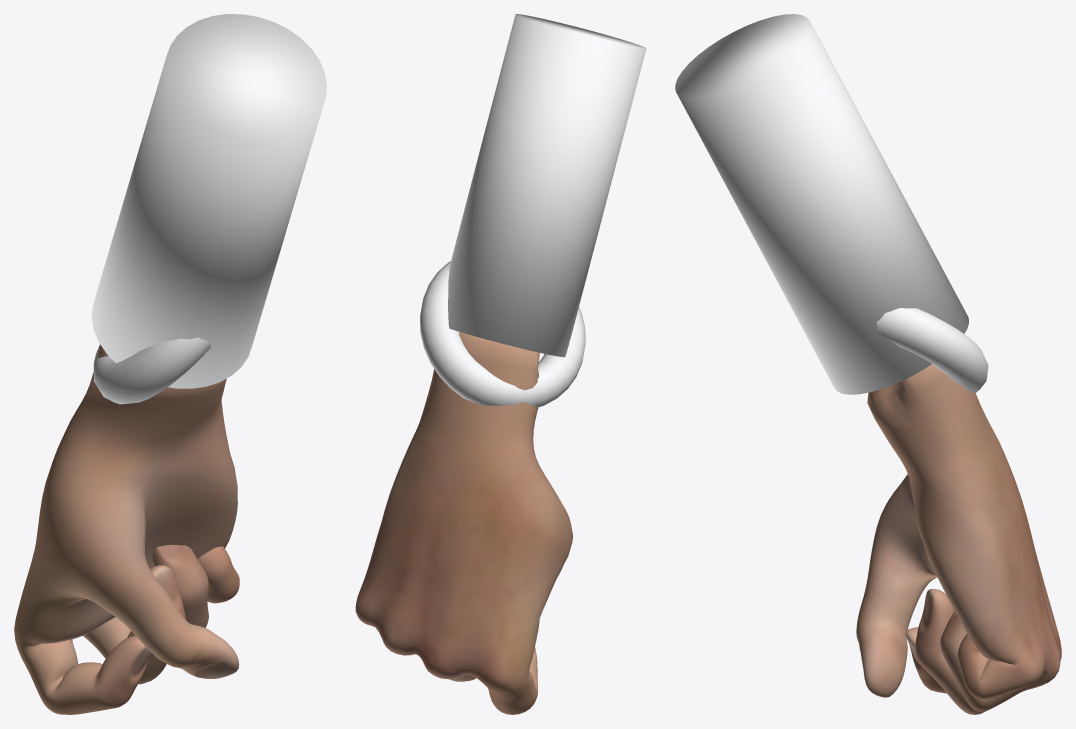
The model's file is hand_pinch.glb.
3 renders of one model, left to right at view 1: azimuth 30°, elevation 25°; view 2: azimuth 150°, elevation 25°; view 3: azimuth 270°, elevation 25°, orthographic. The views are drawn at different scales.
Parts seen in each view (by area): view 1: hand, sleeve, cuff; view 2: hand, sleeve, cuff; view 3: sleeve, hand, cuff.
Boxes of the visible parts, x1,y1,x2,y2 form: hand: (14, 344, 239, 714); sleeve: (91, 14, 326, 388); cuff: (93, 337, 210, 404); hand: (355, 332, 572, 714); sleeve: (448, 14, 646, 357); cuff: (420, 261, 585, 407); sleeve: (675, 14, 968, 394); hand: (856, 364, 1061, 714); cuff: (876, 308, 988, 392).
Size of the model in its own units: 0.0801 by 0.2785 by 0.1407.
2 materials, 1 textured.
